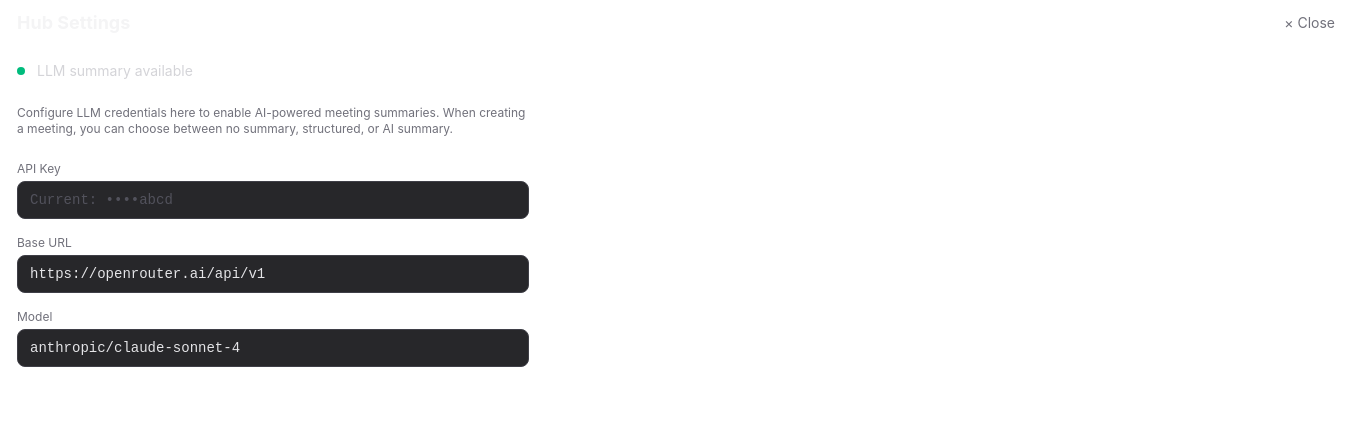
HubSettings › hides Save button after saving
Type "gpt-4o" into the field showing "anthropic/claude-sonnet-4" below "Model" at (273, 348), box [17,329,529,367]
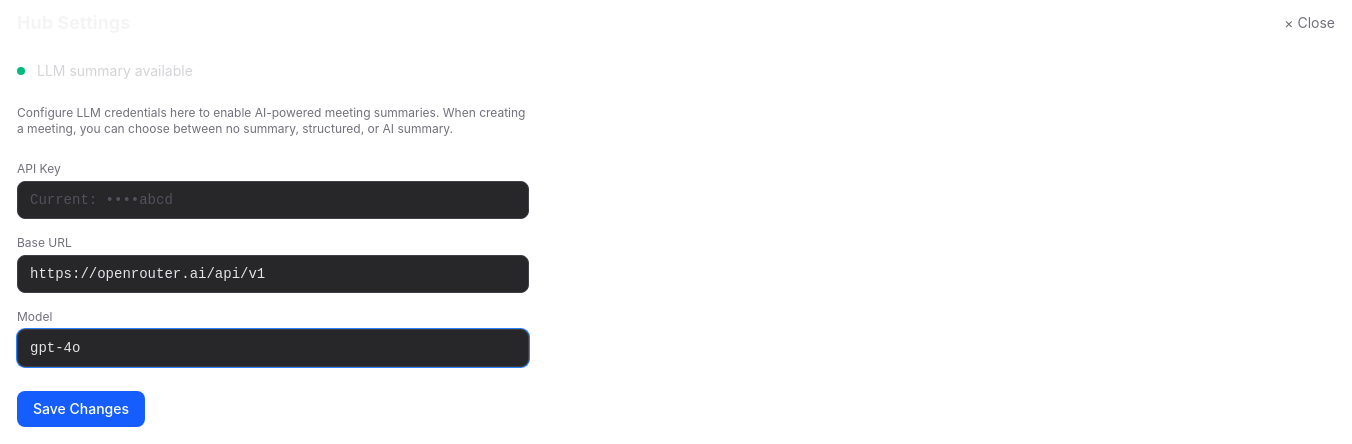
Click the button "Save Changes" at (81, 409), box [17,391,145,427]
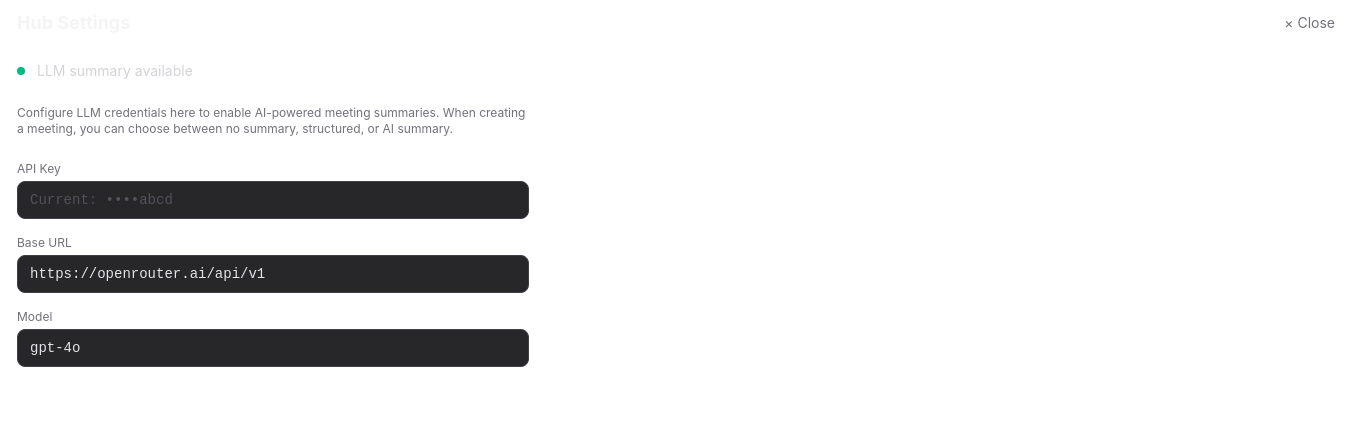
Check: the button "Save Changes" is gone
